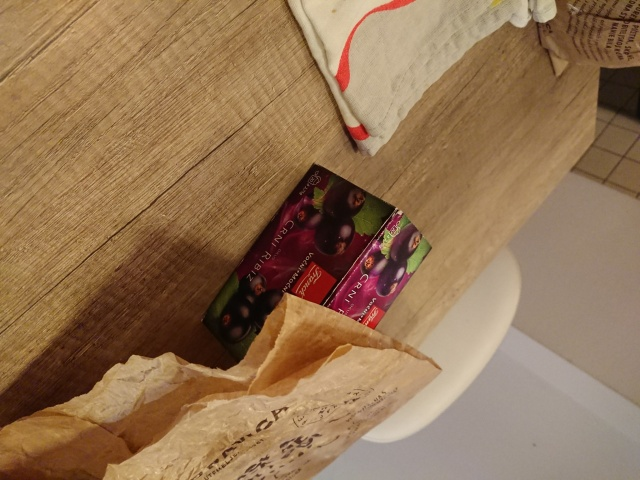Franck Black Currant Tea 60g: (197, 160, 436, 393)
